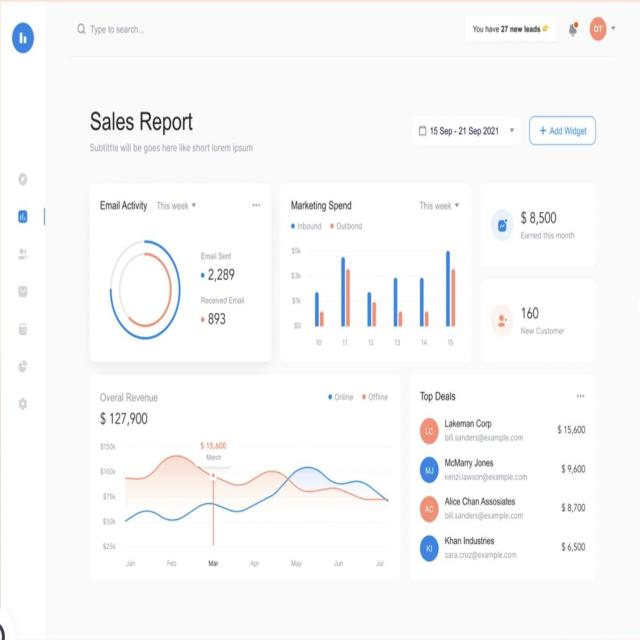button: (530, 116, 596, 146)
select: (413, 118, 521, 146), (418, 196, 462, 214), (155, 197, 201, 214)
